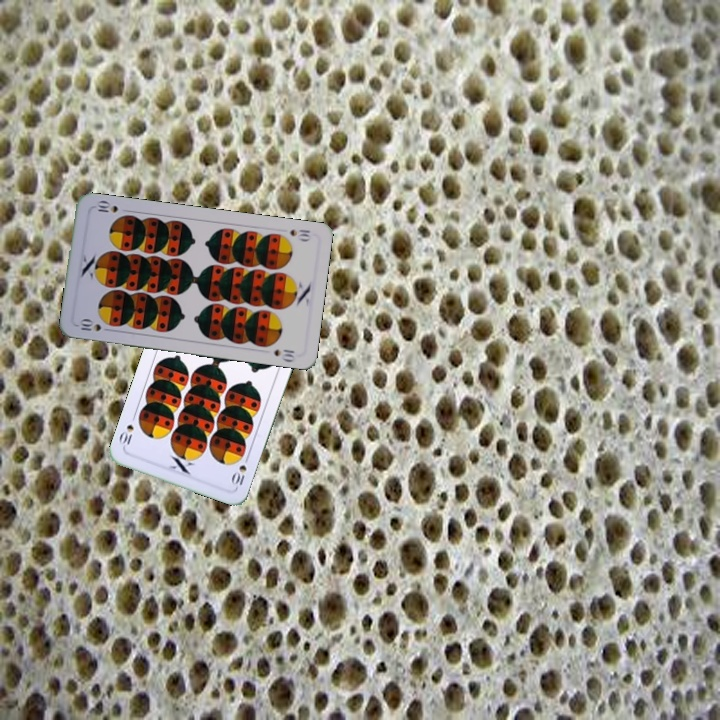S10: (228, 451, 252, 490), (74, 316, 104, 334), (286, 225, 313, 244)
